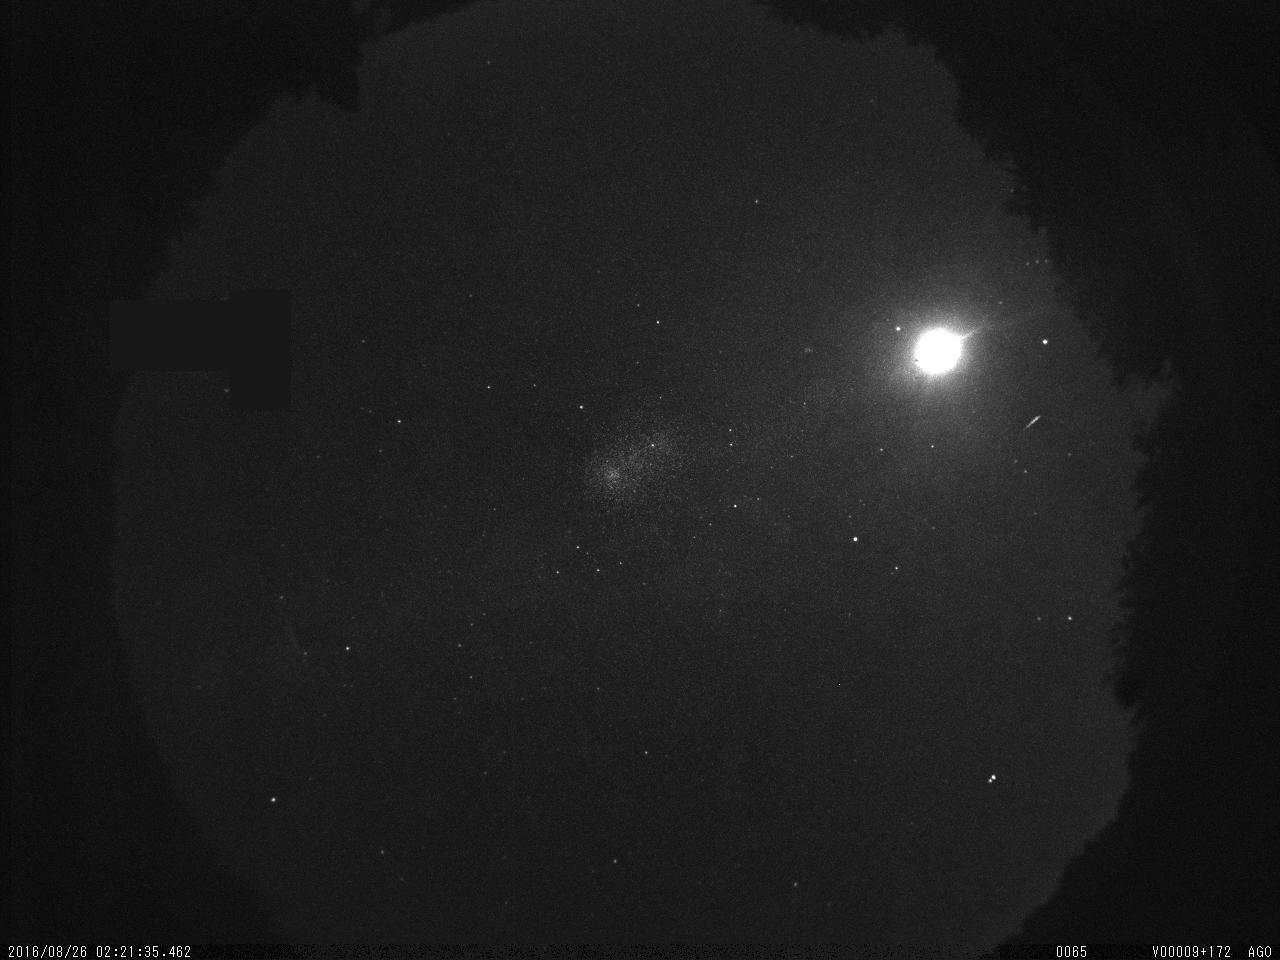Meteor: (1018, 406, 1047, 440)
